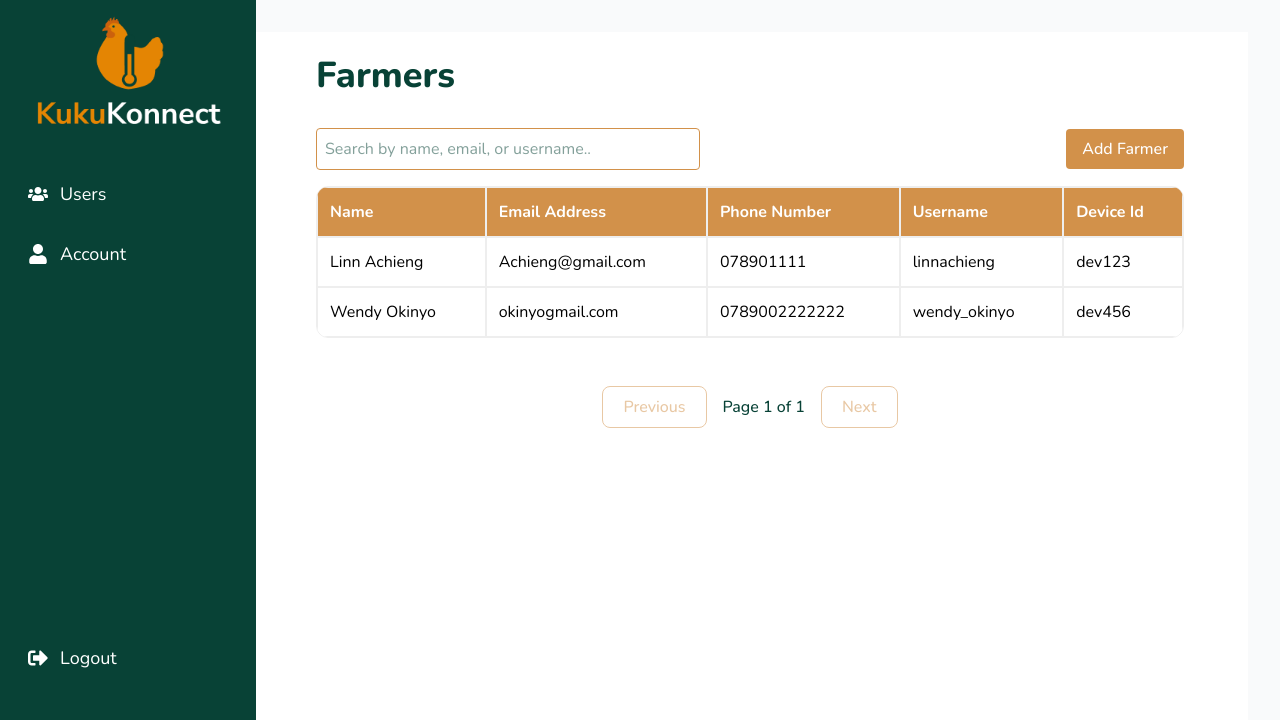
Test: FarmersPage Component › renders users and filters by search input
Expected: the text "Linn Achieng" is shown, [317,237,486,287]
Expected: the text "Wendy Okinyo" is shown, [317,287,486,337]
Type "Linn" into the field with placeholder "Search by name, email, or username.." at (508, 149), box [316,128,700,170]
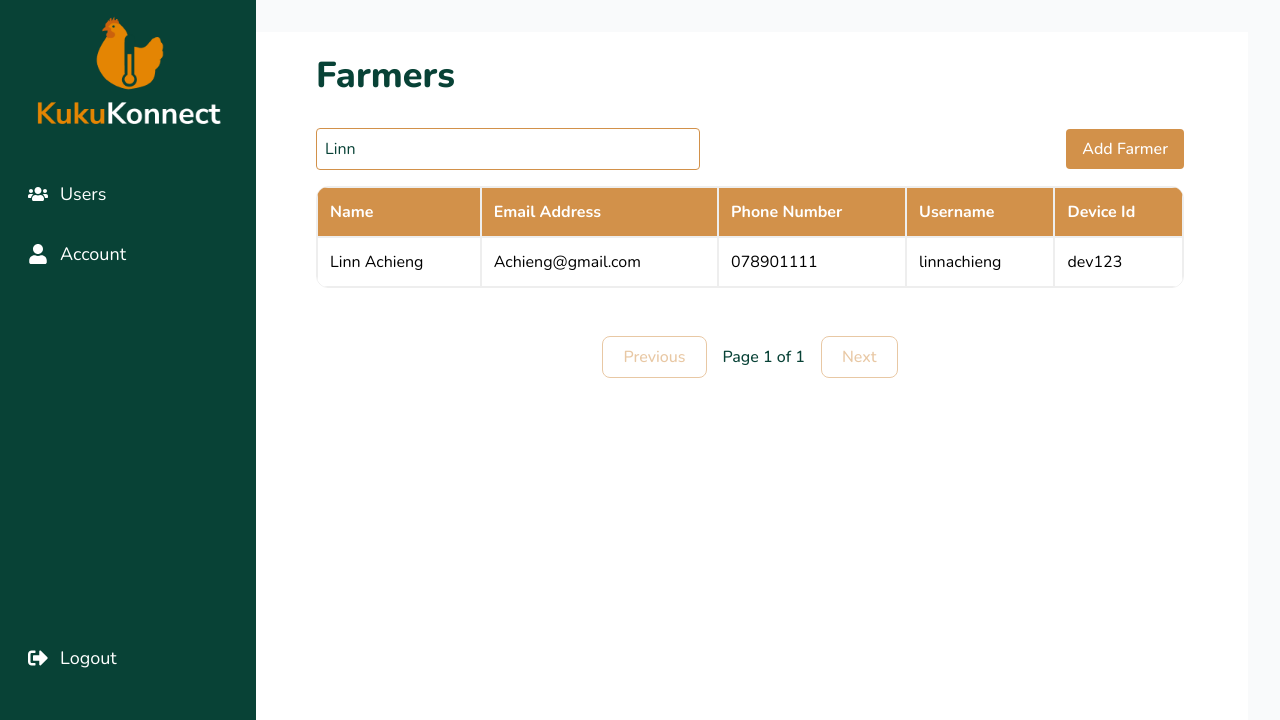
Expected: the text "Linn Achieng" is shown, [317,237,481,287]
Now the text "Wendy Okinyo" is gone
